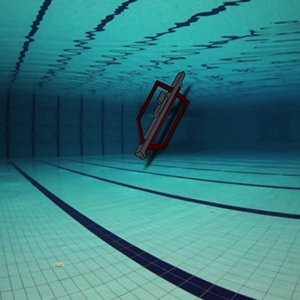submarine: (127, 67, 196, 160)
